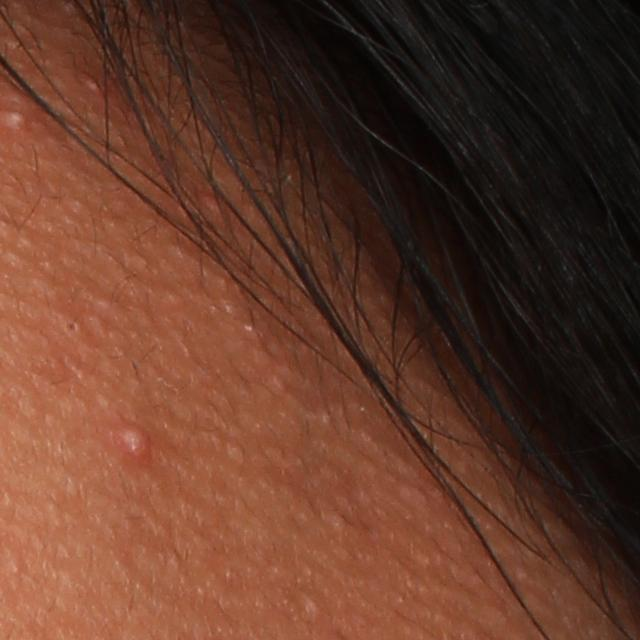comedo: (2, 110, 34, 126), (301, 591, 322, 614), (61, 317, 82, 339)
